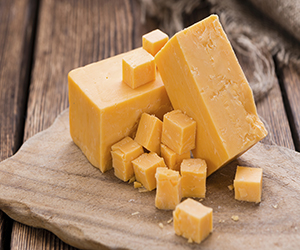cheese: (159, 14, 272, 161), (58, 52, 181, 164), (106, 131, 166, 180), (159, 103, 203, 151), (171, 199, 211, 245), (123, 155, 178, 187), (171, 152, 211, 195), (121, 47, 161, 90), (149, 163, 179, 219), (137, 108, 175, 152), (231, 164, 267, 205), (139, 24, 171, 57)
